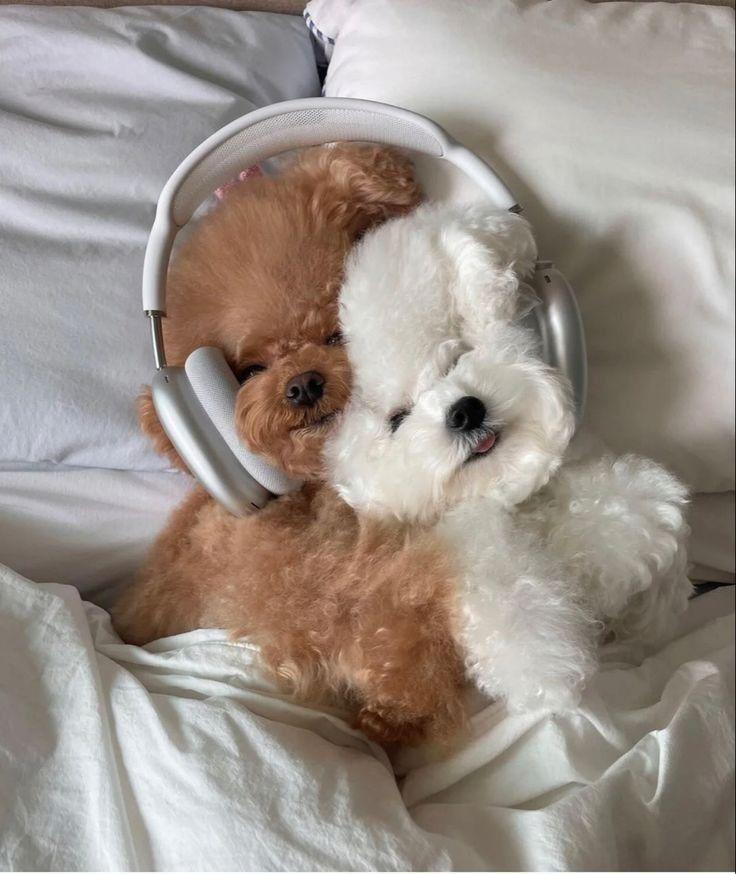adult_dog: (109, 140, 480, 769), (323, 196, 699, 721)
